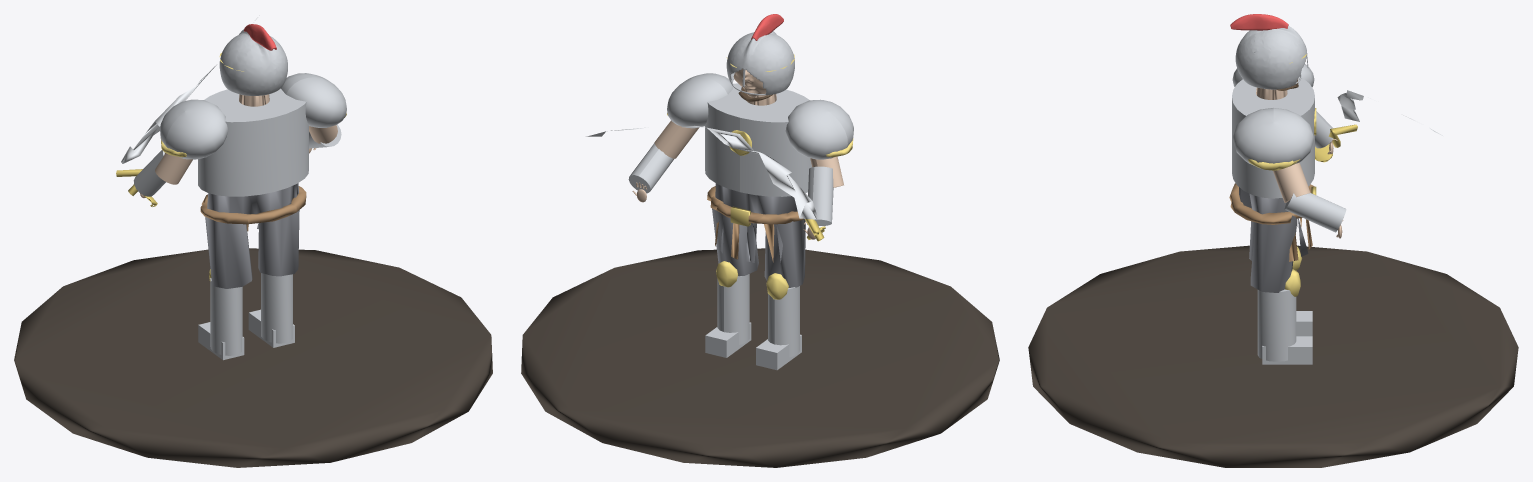
The model's file is warrior-lod2-ultralight.glb.
The picture shows the model from 3 angles, left to right: view 1: azimuth 30°, elevation 25°; view 2: azimuth 150°, elevation 25°; view 3: azimuth 270°, elevation 25°; orthographic projection. The views are drawn at different scales.
Visible parts, largest first — view 1: Warrior_Floor_Stone_Mat_Node, Warrior_Steel_Armor_Mat_Node, Warrior_Dark_Iron_Mat_Node, Warrior_Skin_Mat_Node, Warrior_Leather_Mat_Node, Warrior_Talwar_Blade_Mat_Node; view 2: Warrior_Floor_Stone_Mat_Node, Warrior_Steel_Armor_Mat_Node, Warrior_Dark_Iron_Mat_Node, Warrior_Skin_Mat_Node, Warrior_Talwar_Blade_Mat_Node, Warrior_Gold_Trim_Mat_Node, Warrior_Leather_Mat_Node; view 3: Warrior_Floor_Stone_Mat_Node, Warrior_Steel_Armor_Mat_Node, Warrior_Dark_Iron_Mat_Node, Warrior_Skin_Mat_Node, Warrior_Leather_Mat_Node, Warrior_Gold_Trim_Mat_Node, Warrior_Crimson_Cape_Mat_Node, Warrior_Talwar_Brass_Mat_Node, Warrior_Talwar_Blade_Mat_Node.
Part boxes in pixels (left/top/right/bottom): Warrior_Floor_Stone_Mat_Node: left=14, top=248, right=492, bottom=467; Warrior_Steel_Armor_Mat_Node: left=133, top=29, right=346, bottom=360; Warrior_Dark_Iron_Mat_Node: left=205, top=183, right=299, bottom=288; Warrior_Skin_Mat_Node: left=140, top=94, right=337, bottom=198; Warrior_Leather_Mat_Node: left=200, top=186, right=306, bottom=231; Warrior_Talwar_Blade_Mat_Node: left=121, top=15, right=259, bottom=163; Warrior_Floor_Stone_Mat_Node: left=521, top=248, right=999, bottom=467; Warrior_Steel_Armor_Mat_Node: left=628, top=31, right=853, bottom=370; Warrior_Dark_Iron_Mat_Node: left=712, top=183, right=805, bottom=287; Warrior_Skin_Mat_Node: left=632, top=69, right=843, bottom=239; Warrior_Talwar_Blade_Mat_Node: left=586, top=125, right=817, bottom=219; Warrior_Gold_Trim_Mat_Node: left=667, top=54, right=853, bottom=299; Warrior_Leather_Mat_Node: left=707, top=186, right=803, bottom=262; Warrior_Floor_Stone_Mat_Node: left=1028, top=245, right=1518, bottom=467; Warrior_Steel_Armor_Mat_Node: left=1232, top=25, right=1346, bottom=364; Warrior_Dark_Iron_Mat_Node: left=1239, top=187, right=1308, bottom=292; Warrior_Skin_Mat_Node: left=1256, top=61, right=1343, bottom=238; Warrior_Leather_Mat_Node: left=1229, top=183, right=1314, bottom=261; Warrior_Gold_Trim_Mat_Node: left=1248, top=54, right=1316, bottom=296; Warrior_Crimson_Cape_Mat_Node: left=1230, top=14, right=1288, bottom=30; Warrior_Talwar_Brass_Mat_Node: left=1315, top=124, right=1357, bottom=162; Warrior_Talwar_Blade_Mat_Node: left=1337, top=90, right=1442, bottom=135.
Bounding box in the file's own units: 2.8 × 2.22 × 2.8.
